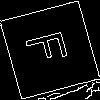F: (24, 25, 78, 68)
